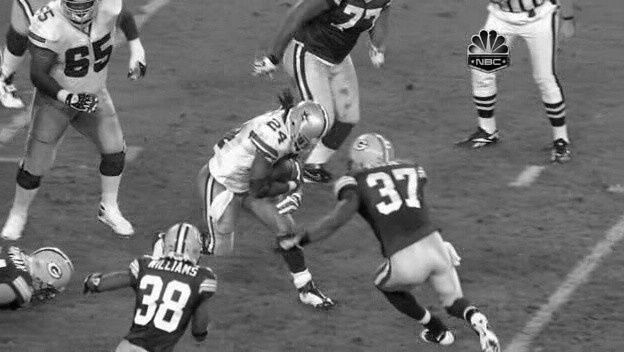person: (290, 107, 325, 152), (289, 107, 324, 152), (291, 107, 326, 152), (290, 106, 325, 151), (290, 108, 325, 153)
target_negative: (506, 17, 569, 108), (357, 167, 409, 225), (586, 245, 620, 272), (328, 346, 468, 347), (554, 271, 586, 272)
